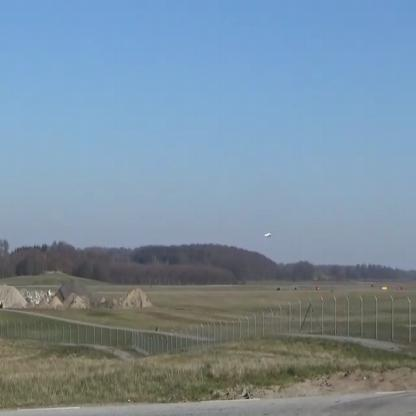CIV_Plane: (262, 228, 272, 240)
